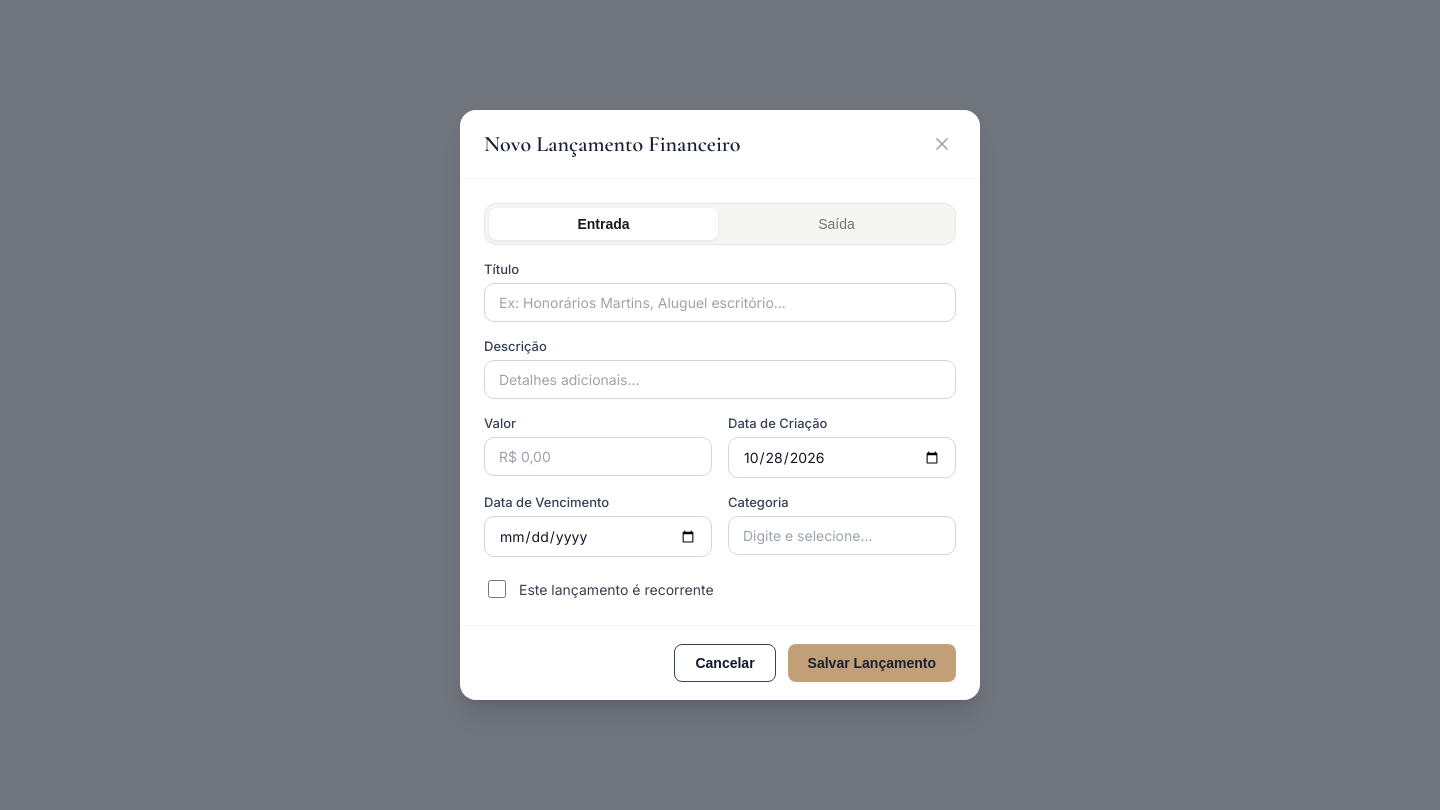
Scenario: LancamentoModal › valida campos obrigatórios ao submeter com valor inválido não numérico
Type "Honorários" into the field labelled "Título" at (720, 302), box x1=484 y1=283 x2=956 y2=322
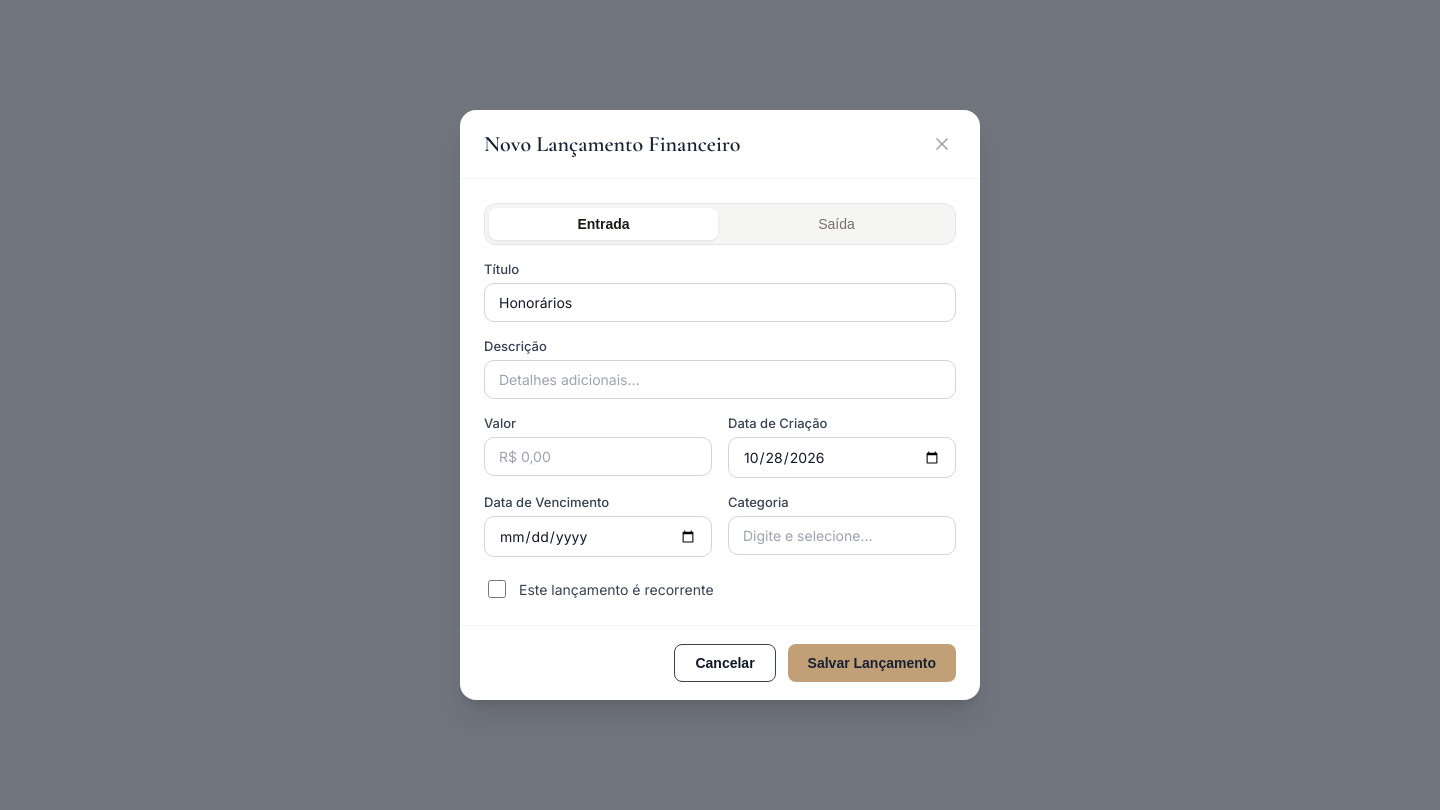
Type "abc" into the field labelled "Valor" at (598, 456), box x1=484 y1=437 x2=712 y2=476
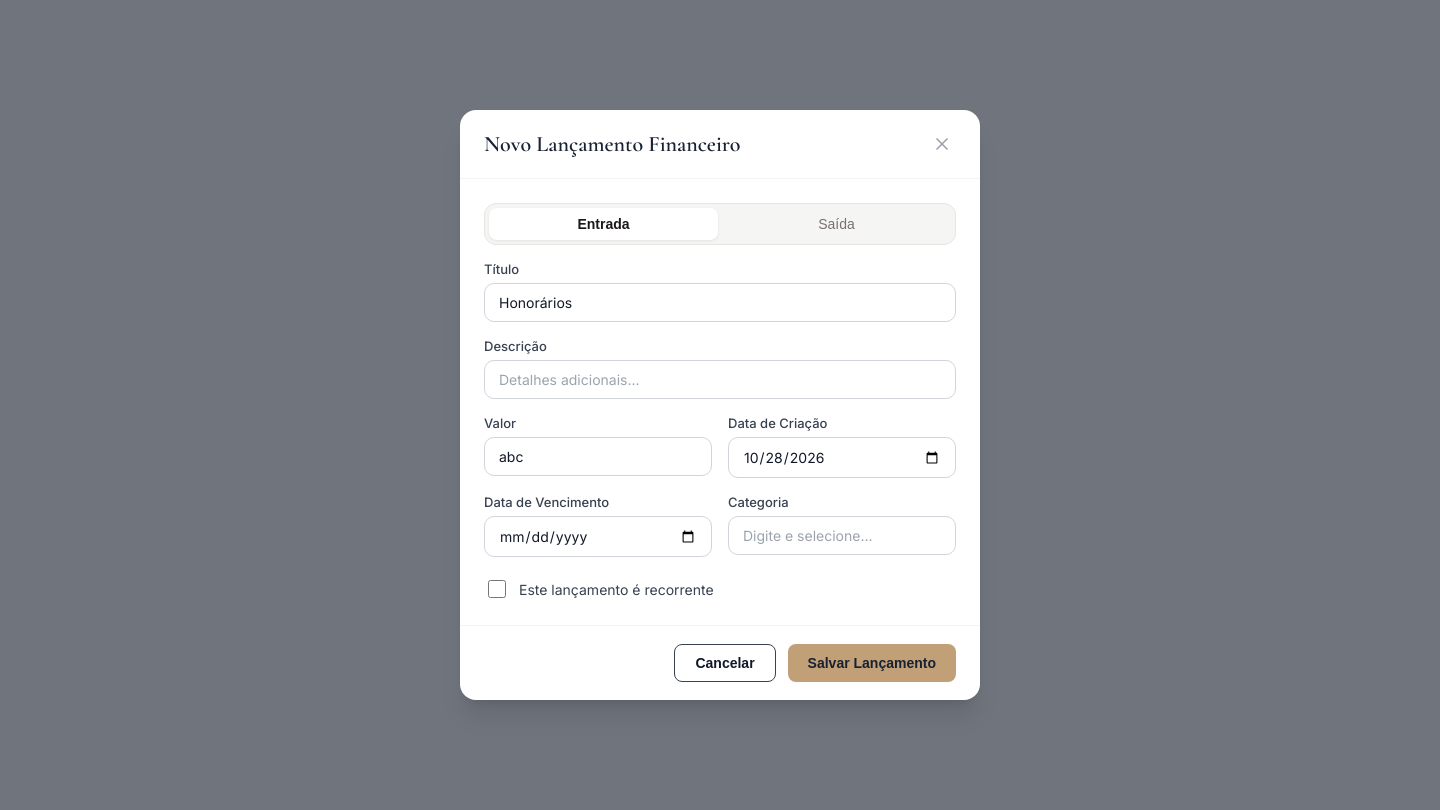
Submit the form from the button "Salvar Lançamento", box x1=788 y1=644 x2=956 y2=682
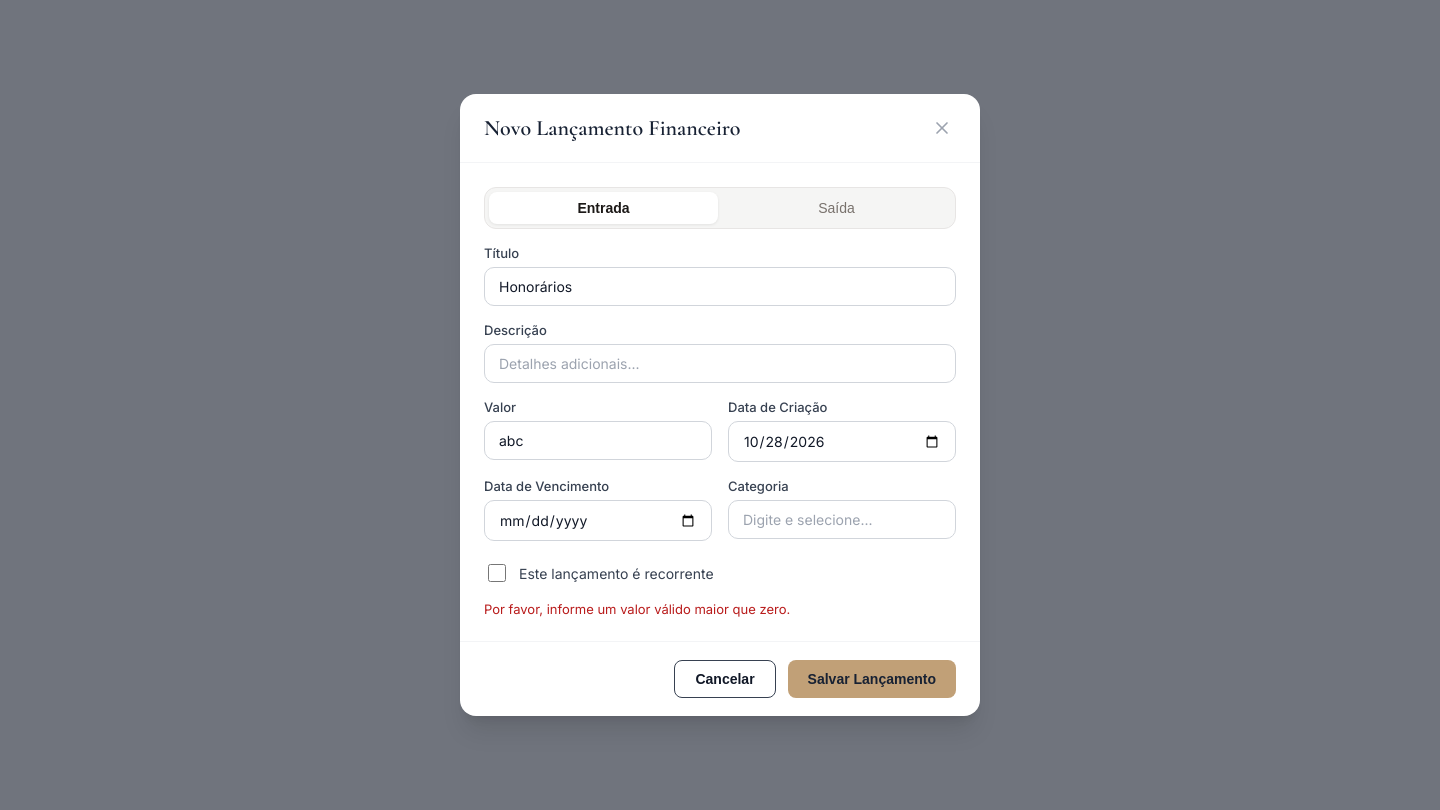
Result: the text "Por favor, informe um valor válido maior que zero." is shown at x1=484 y1=601 x2=790 y2=617
